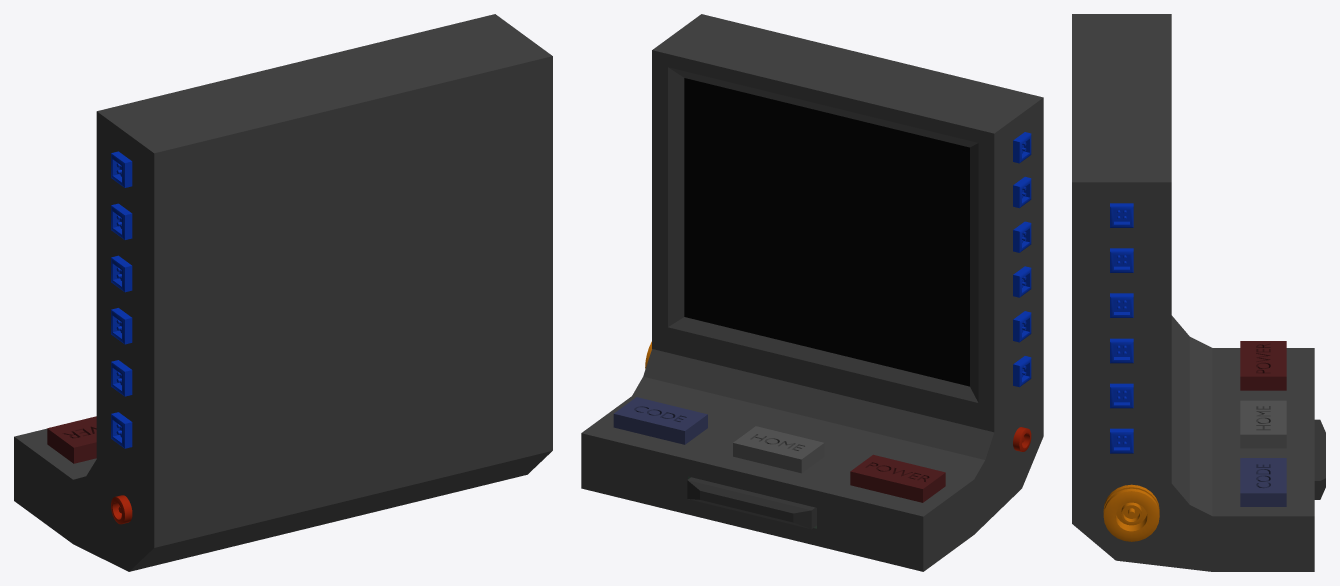
File: Computer.gltf
3 views of the same model, side by side, from view 1: azimuth 30°, elevation 25°; view 2: azimuth 150°, elevation 25°; view 3: azimuth 270°, elevation 25° (orthographic). The views are drawn at different scales.
Visible parts, largest first — view 1: console; view 2: console, hdd; view 3: console, hdd.
Part boxes in pixels (x1,y1,x2,y2): console: (14,14,552,571); console: (581,14,1043,571); hdd: (687,477,816,529); console: (1072,14,1314,571); hdd: (1314,419,1325,499).
Bounding box in the file's own units: 1.06 × 1.08 × 0.6371.
